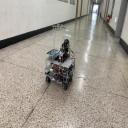cart: (44, 52, 76, 91)
